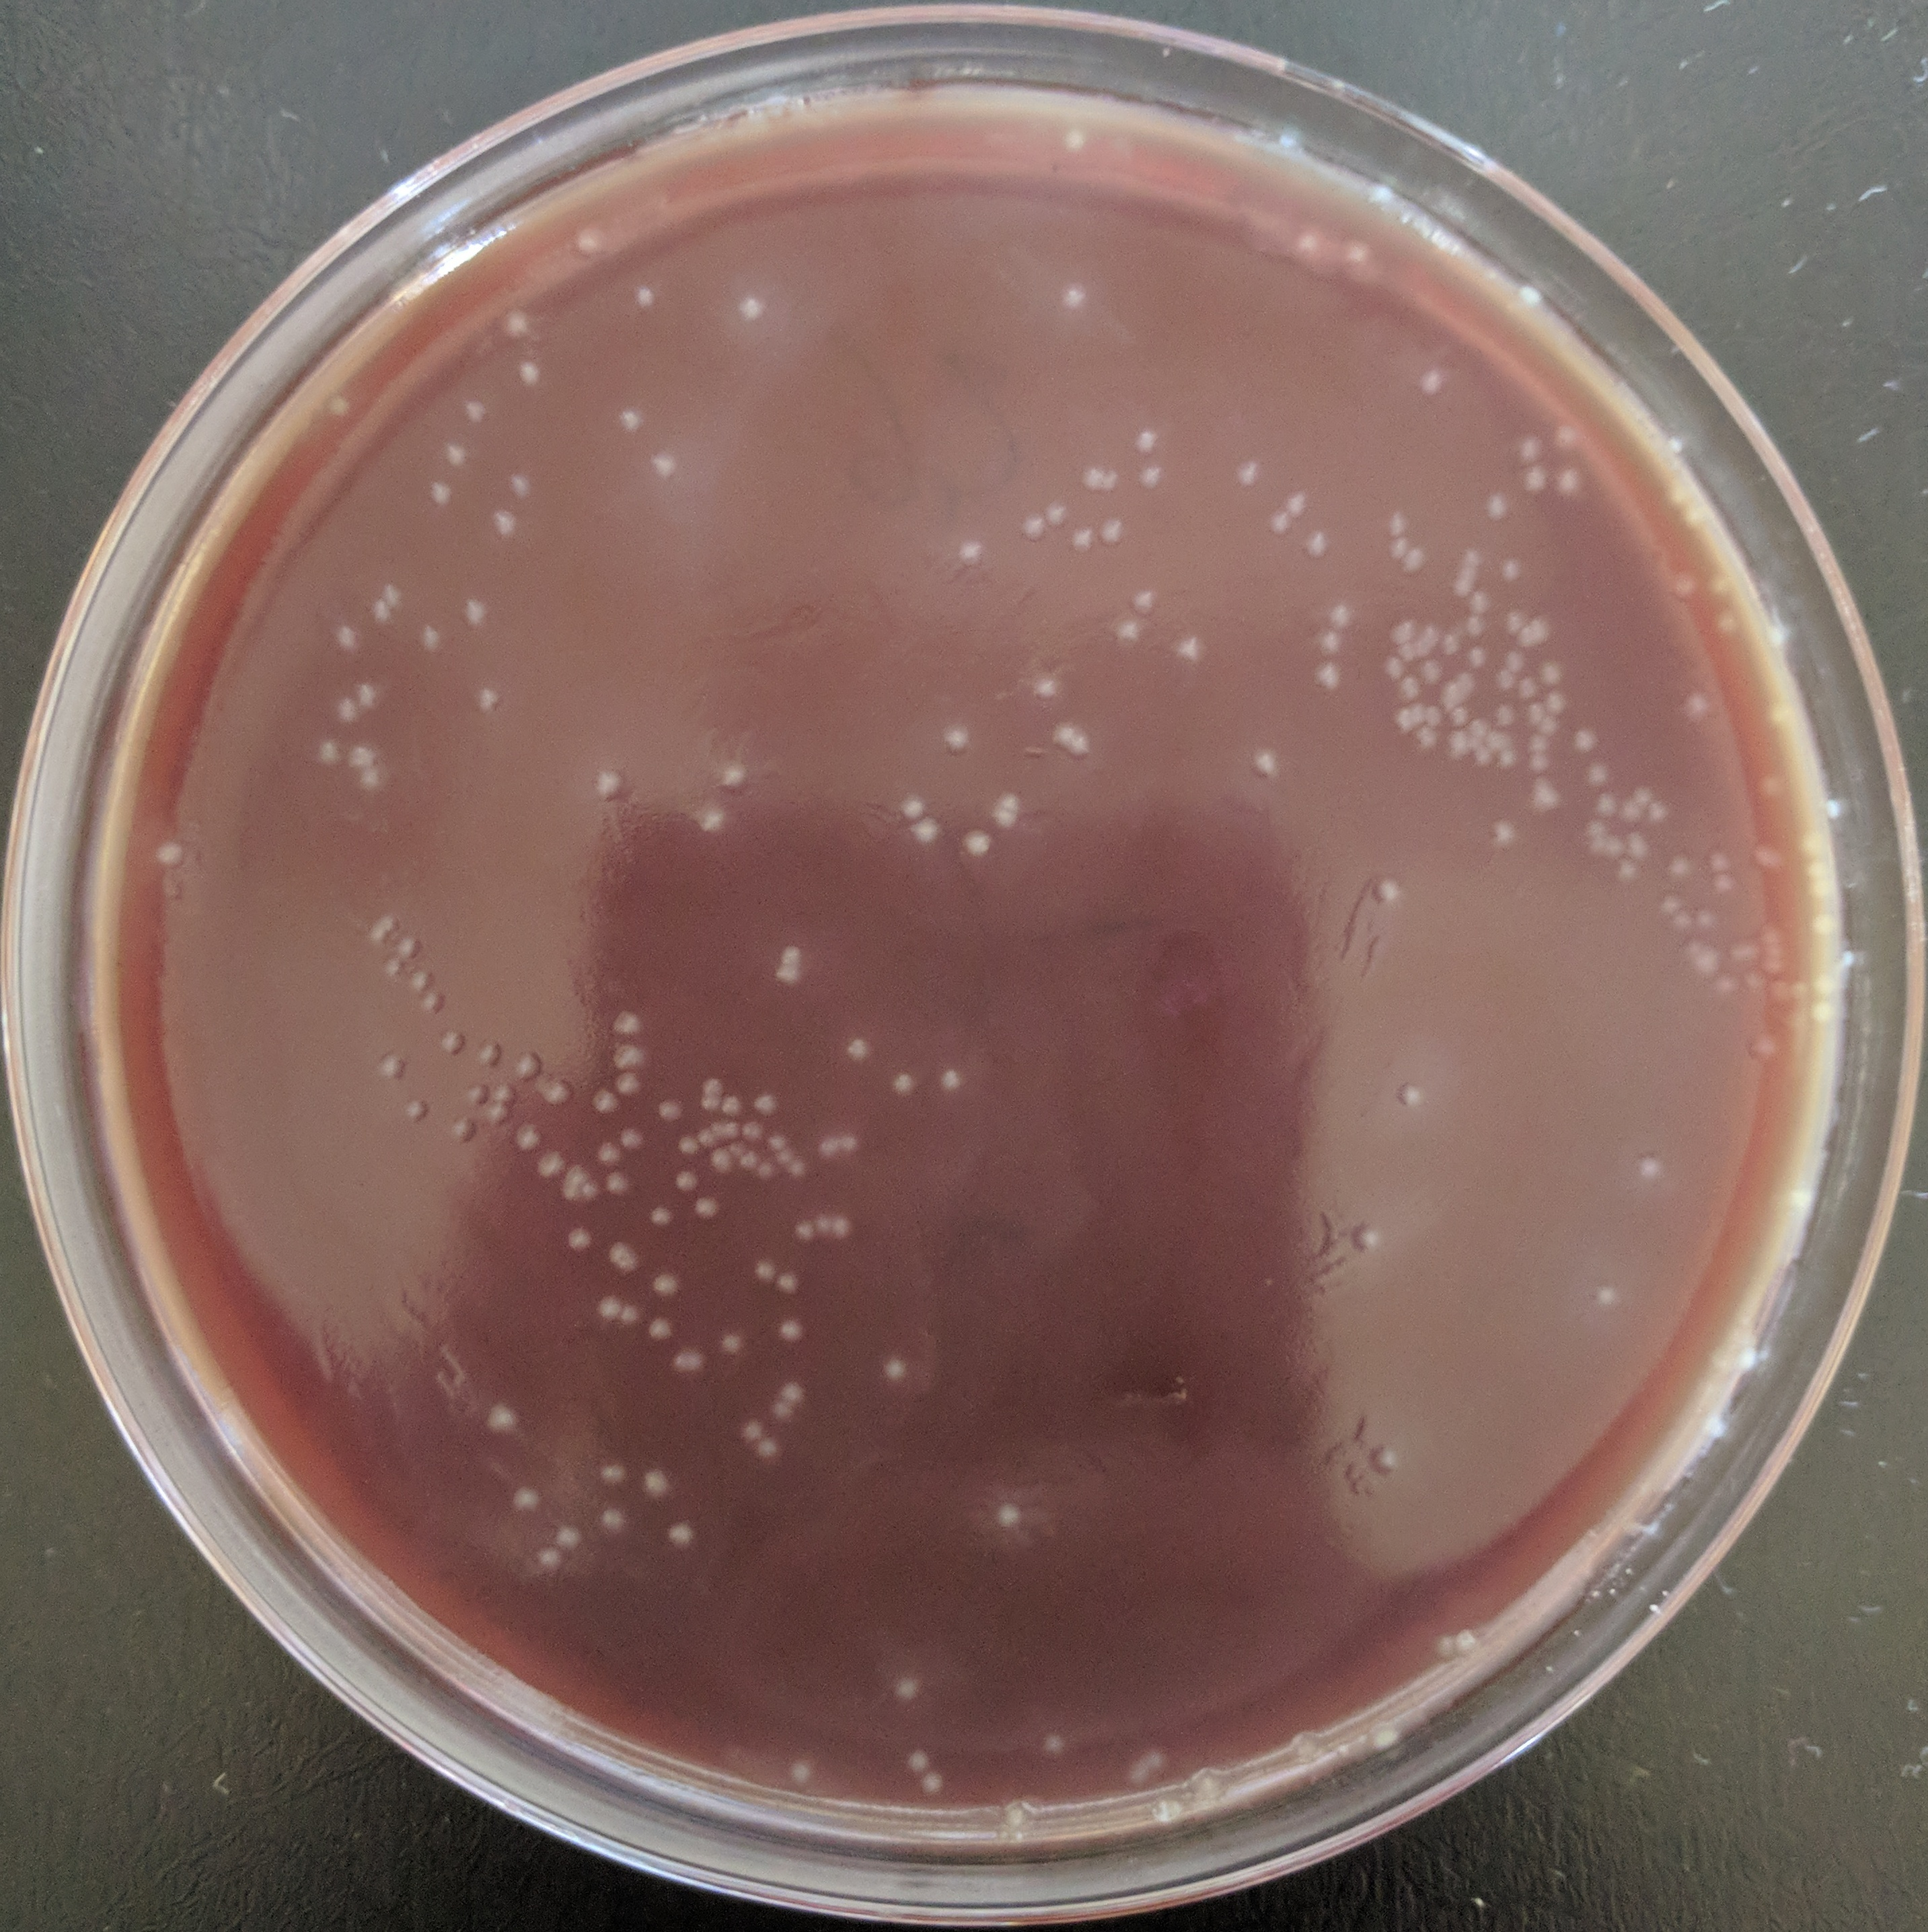sp06: (141, 821, 198, 887), (468, 1392, 528, 1450), (302, 385, 362, 438), (586, 1068, 643, 1120), (983, 1498, 1035, 1545), (777, 1754, 832, 1798), (1049, 274, 1098, 321), (708, 752, 756, 800), (953, 823, 1010, 862), (1623, 1146, 1670, 1192), (586, 759, 632, 807), (1481, 486, 1525, 533), (556, 1217, 600, 1263), (507, 1045, 551, 1091), (477, 503, 523, 547), (1284, 212, 1326, 260), (726, 286, 777, 325), (1049, 122, 1088, 173), (1340, 235, 1379, 286), (1552, 461, 1594, 507), (602, 394, 644, 440), (1344, 1215, 1393, 1254), (664, 1342, 713, 1381), (646, 440, 685, 489), (600, 1000, 651, 1037), (606, 1040, 659, 1075), (1527, 774, 1568, 819), (508, 1483, 554, 1524), (932, 721, 980, 759), (535, 1075, 583, 1114), (1095, 512, 1132, 562), (870, 1355, 920, 1392), (636, 1462, 678, 1505), (549, 1519, 597, 1556), (1361, 1434, 1402, 1476), (766, 1312, 809, 1353), (742, 1247, 784, 1287), (846, 1035, 888, 1075), (932, 1060, 973, 1102), (689, 796, 731, 837), (883, 1671, 930, 1706), (436, 433, 471, 480), (1246, 749, 1289, 788), (655, 1517, 697, 1556), (606, 1234, 643, 1279), (456, 390, 500, 427), (1513, 431, 1554, 470), (302, 731, 343, 770), (328, 611, 367, 652), (1225, 457, 1268, 494), (1744, 1031, 1781, 1074), (902, 811, 945, 848), (531, 1146, 574, 1183), (1494, 551, 1529, 595), (454, 588, 489, 632), (648, 1259, 682, 1305), (946, 535, 998, 565), (510, 350, 549, 389), (1661, 844, 1698, 885), (683, 1189, 726, 1224), (1319, 599, 1363, 632), (1126, 427, 1164, 466), (1065, 521, 1102, 560), (1123, 581, 1162, 618), (1543, 419, 1580, 457), (1676, 683, 1714, 721), (1480, 812, 1518, 849), (443, 1107, 480, 1146), (1665, 563, 1700, 604), (1450, 1621, 1485, 1662), (899, 1745, 939, 1780), (646, 1090, 687, 1125), (500, 466, 535, 507), (613, 1291, 643, 1339), (643, 1300, 673, 1347), (507, 1121, 549, 1155), (1312, 655, 1344, 699), (1111, 616, 1149, 652), (1414, 360, 1453, 396), (397, 1093, 436, 1128), (408, 620, 447, 655), (496, 307, 535, 343), (1130, 464, 1171, 498), (916, 1773, 957, 1807), (1531, 659, 1573, 691), (1031, 1727, 1073, 1759), (625, 279, 667, 311), (1568, 722, 1605, 758), (1748, 837, 1785, 872), (1750, 770, 1787, 805), (1591, 1273, 1626, 1310), (595, 1499, 630, 1536), (344, 735, 380, 772), (353, 759, 390, 795), (1707, 563, 1741, 602), (1370, 871, 1404, 909), (1411, 717, 1439, 763), (1393, 1077, 1425, 1118), (533, 1536, 565, 1577), (1047, 715, 1077, 758), (715, 1323, 745, 1365), (466, 683, 508, 713), (1172, 630, 1208, 666), (1386, 528, 1414, 572), (1806, 994, 1834, 1038), (985, 800, 1029, 828), (374, 1045, 410, 1081), (1458, 639, 1492, 676), (1427, 1630, 1460, 1667), (593, 1287, 627, 1324), (766, 959, 803, 992), (1314, 625, 1345, 664), (1683, 941, 1714, 980), (643, 1201, 682, 1233), (1359, 1722, 1400, 1752), (893, 789, 929, 823), (1725, 936, 1759, 971), (777, 1374, 812, 1407), (770, 1264, 803, 1300), (602, 1162, 636, 1197), (1026, 675, 1063, 706), (593, 1457, 630, 1489), (706, 1114, 743, 1146), (616, 1121, 648, 1158), (591, 1132, 623, 1169), (475, 1037, 507, 1074), (433, 1026, 470, 1058), (1038, 500, 1072, 533), (1518, 466, 1550, 502), (1623, 826, 1649, 869), (1612, 857, 1649, 887), (1266, 507, 1298, 540), (1303, 528, 1335, 562), (734, 1114, 766, 1148), (1282, 489, 1312, 525), (1066, 722, 1096, 758), (1384, 502, 1412, 539), (1435, 623, 1464, 660), (1121, 1761, 1158, 1789), (355, 676, 383, 713), (1714, 608, 1741, 646), (1614, 795, 1646, 826), (812, 1132, 844, 1164), (1091, 468, 1125, 498), (1012, 512, 1045, 542), (736, 1415, 766, 1448), (784, 1220, 814, 1254), (890, 1065, 920, 1098), (1524, 745, 1559, 774), (397, 932, 426, 968), (330, 691, 358, 726), (1764, 973, 1790, 1010), (1133, 1743, 1171, 1770), (1490, 698, 1520, 729), (998, 782, 1028, 814), (712, 1146, 742, 1178), (1395, 671, 1423, 705), (1580, 758, 1614, 786), (674, 1132, 708, 1160), (482, 1095, 514, 1123), (570, 226, 602, 254), (1508, 673, 1541, 699), (376, 581, 410, 608), (1472, 740, 1501, 770), (1706, 867, 1736, 895), (1656, 887, 1684, 917), (1688, 904, 1718, 932), (775, 936, 803, 966), (727, 1139, 756, 1169), (1464, 615, 1490, 646), (1541, 685, 1568, 717), (1495, 745, 1527, 772), (1073, 459, 1098, 493), (1391, 632, 1416, 666), (1668, 906, 1693, 940), (1450, 544, 1485, 567), (362, 920, 390, 948), (826, 1211, 856, 1238), (761, 1128, 791, 1155), (671, 1166, 697, 1196), (364, 599, 394, 625), (1646, 795, 1670, 826), (690, 1127, 722, 1151), (424, 477, 448, 509), (1391, 703, 1414, 736), (1603, 826, 1623, 865), (1420, 657, 1446, 685), (1755, 936, 1783, 962), (738, 1148, 766, 1174), (383, 955, 411, 982), (1465, 583, 1490, 613), (1381, 655, 1405, 685), (1451, 574, 1481, 599), (752, 1086, 777, 1116), (770, 1139, 795, 1169), (784, 1157, 809, 1187), (577, 1178, 607, 1203), (1522, 616, 1554, 639), (1423, 618, 1442, 655), (1501, 604, 1527, 630), (1578, 814, 1605, 841), (1582, 837, 1608, 864), (697, 1090, 724, 1116), (715, 1093, 742, 1120), (1393, 620, 1421, 645), (1464, 721, 1492, 745), (461, 1081, 489, 1106), (489, 1079, 517, 1104), (752, 1434, 782, 1457), (839, 1128, 862, 1158), (422, 991, 452, 1014), (408, 966, 438, 989), (809, 1210, 830, 1241), (1402, 546, 1428, 570), (1501, 648, 1527, 673), (1589, 786, 1615, 811), (770, 1399, 795, 1425), (752, 1157, 779, 1181), (1450, 703, 1472, 731), (376, 909, 399, 938), (1739, 962, 1759, 994), (1790, 980, 1815, 1005), (697, 1068, 722, 1093), (1421, 705, 1444, 731), (1755, 918, 1781, 941), (1494, 666, 1513, 696), (1405, 701, 1428, 726), (1536, 712, 1559, 736), (1709, 844, 1728, 872), (1522, 699, 1541, 726), (1714, 971, 1736, 994), (1525, 731, 1550, 749), (1631, 782, 1653, 802)
